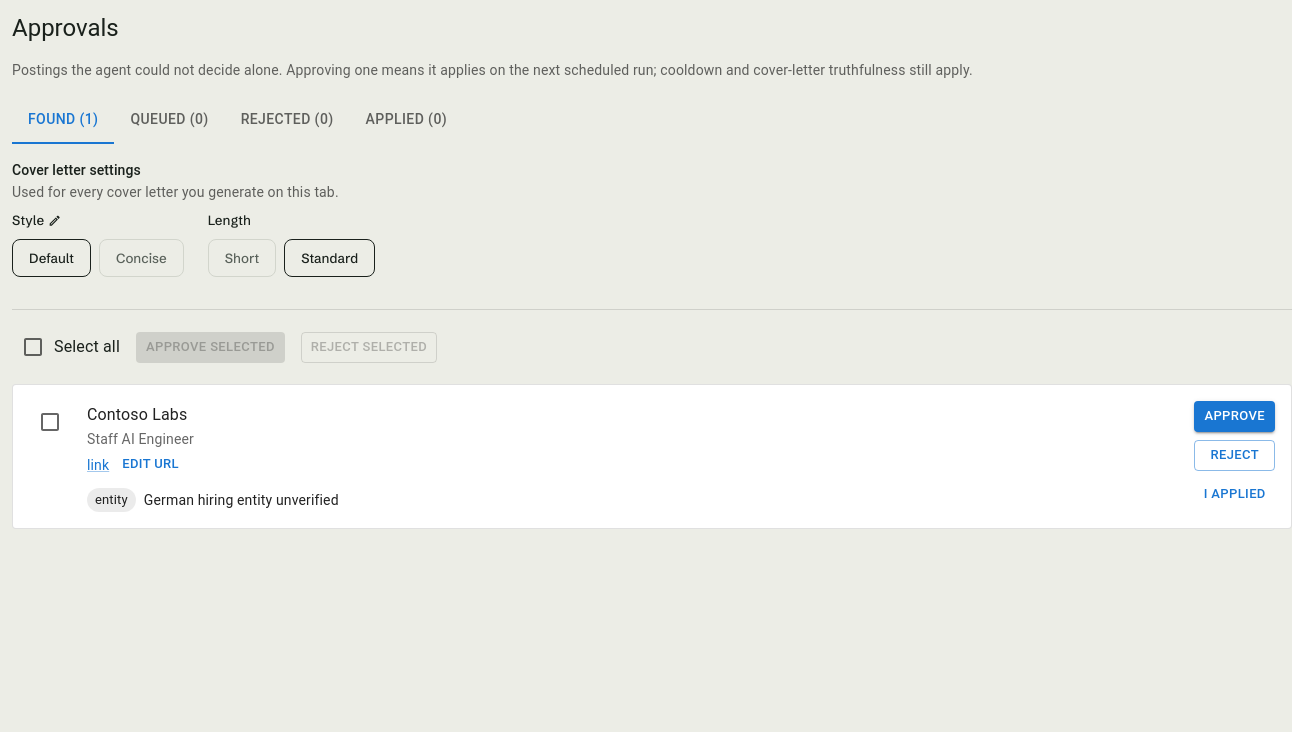
ApprovalsPage › each tab renders its own empty state
Step 1. Click the tab "Queued (0)" → (170, 120), box [114,96,225,144]
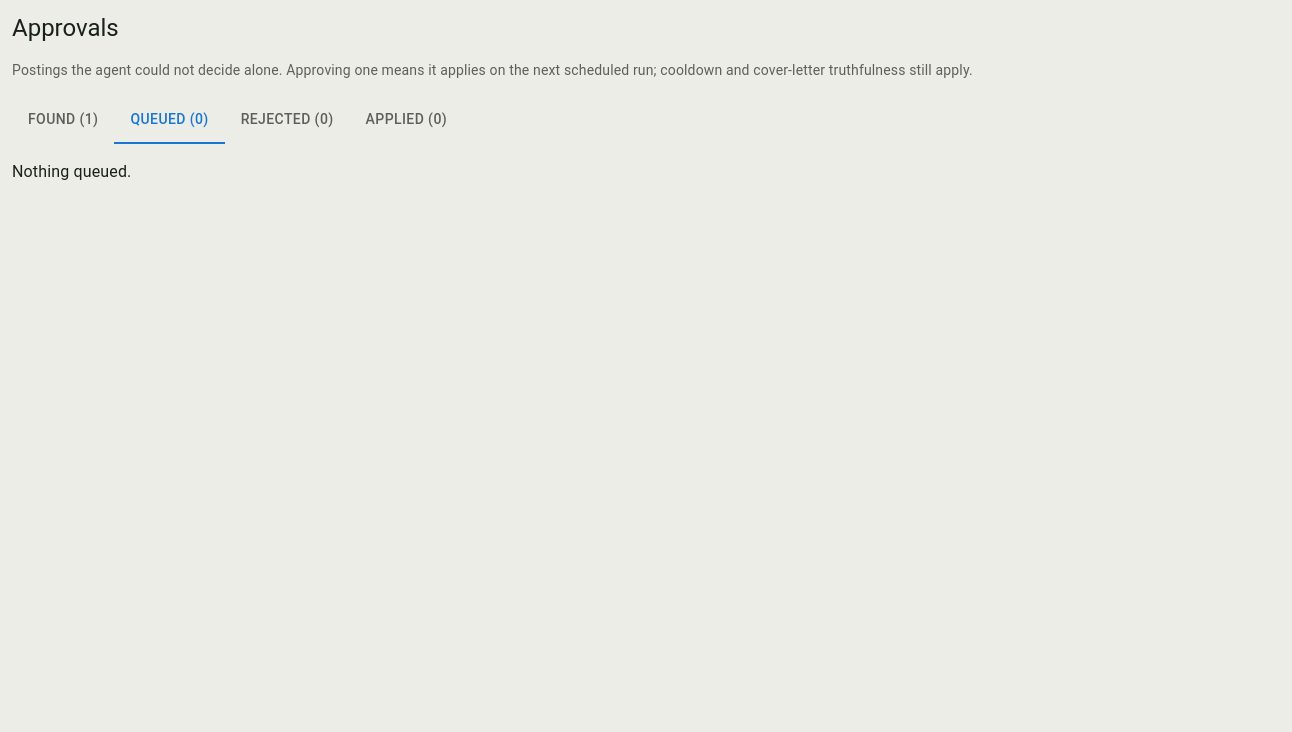
Result: the text "Nothing queued." is shown at [12,162,132,181]
Step 2. Click the tab "Rejected (0)" → (287, 120), box [225,96,350,144]
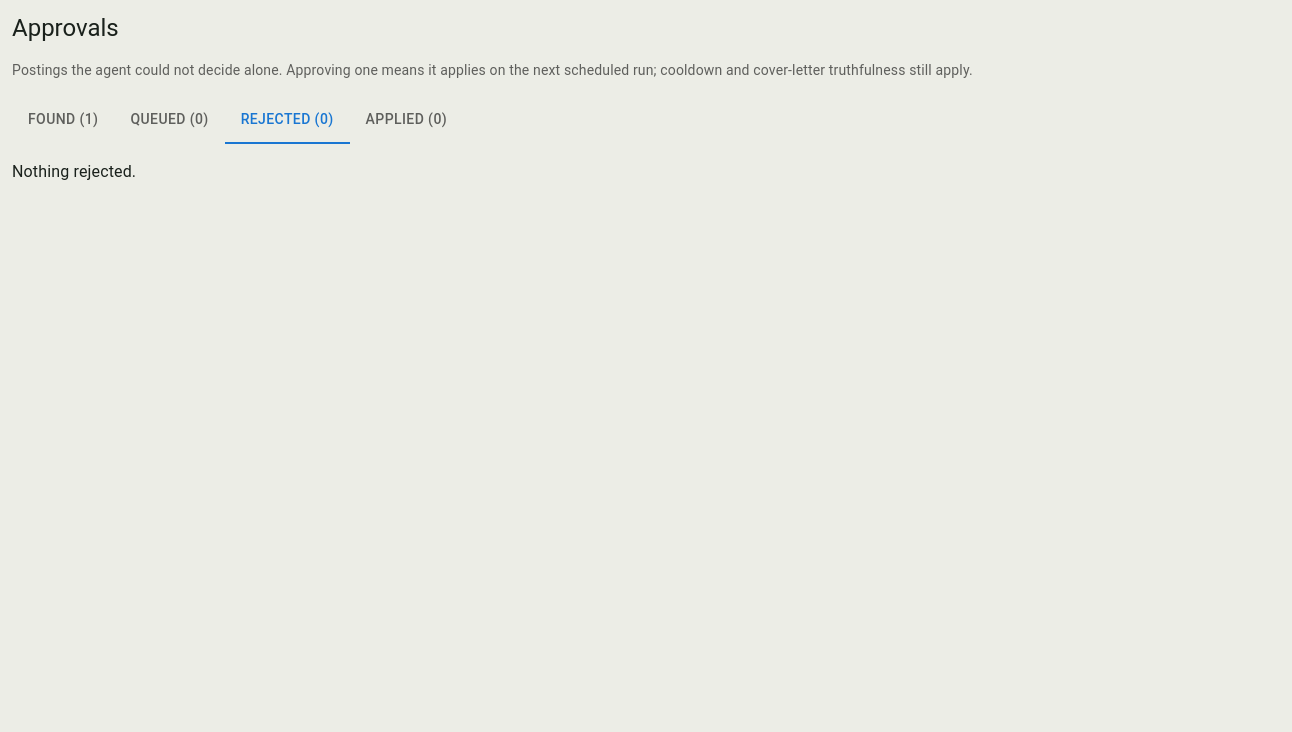
Result: the text "Nothing rejected." is shown at [12,162,136,181]
Step 3. Click the tab "Applied (0)" → (406, 120), box [350,96,463,144]
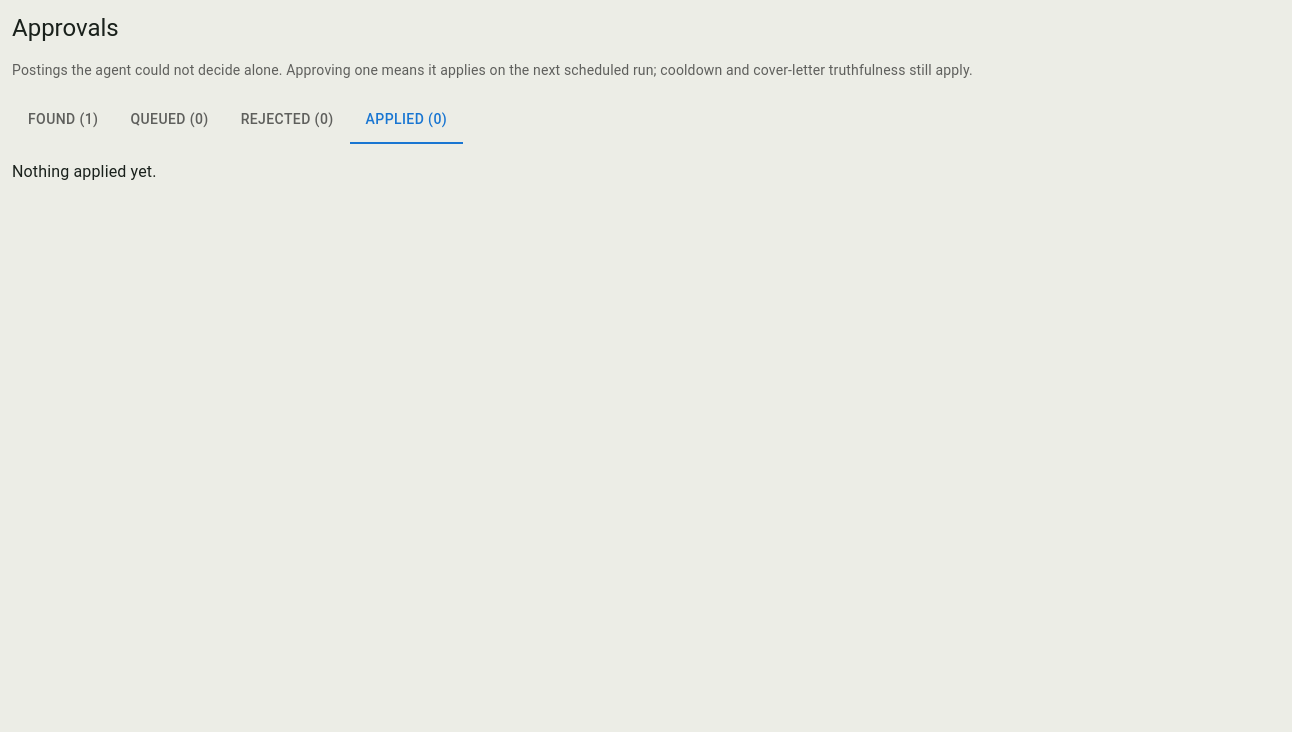
Result: the text "Nothing applied yet." is shown at [12,162,157,181]
Step 4. Click the tab "Found (1)" → (63, 120), box [12,96,114,144]
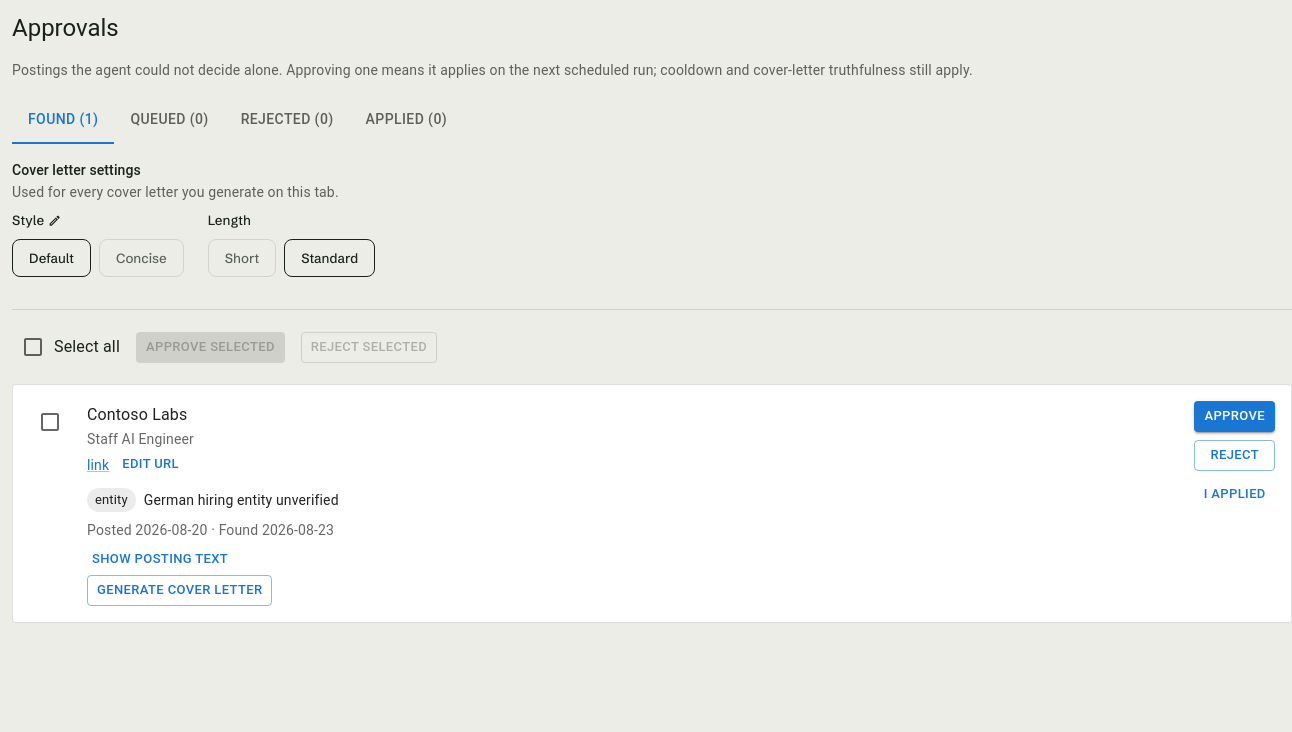
Result: the heading "Contoso Labs" is shown at [87,405,187,424]
